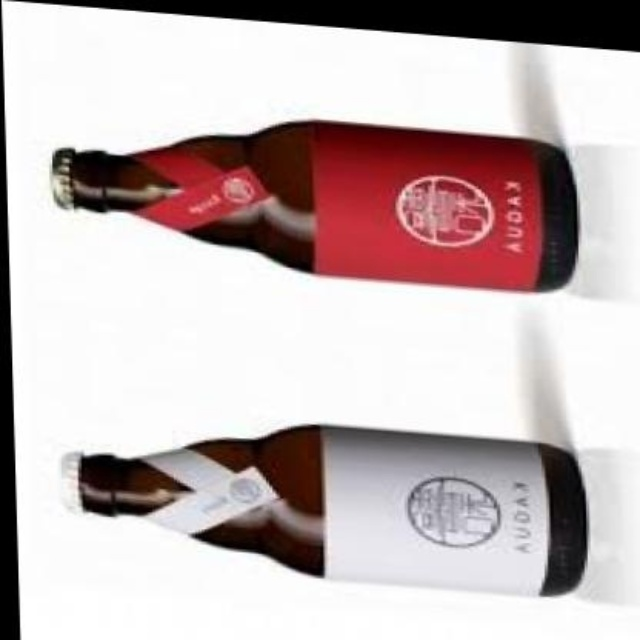trash: (52, 122, 577, 289), (77, 426, 586, 594)
